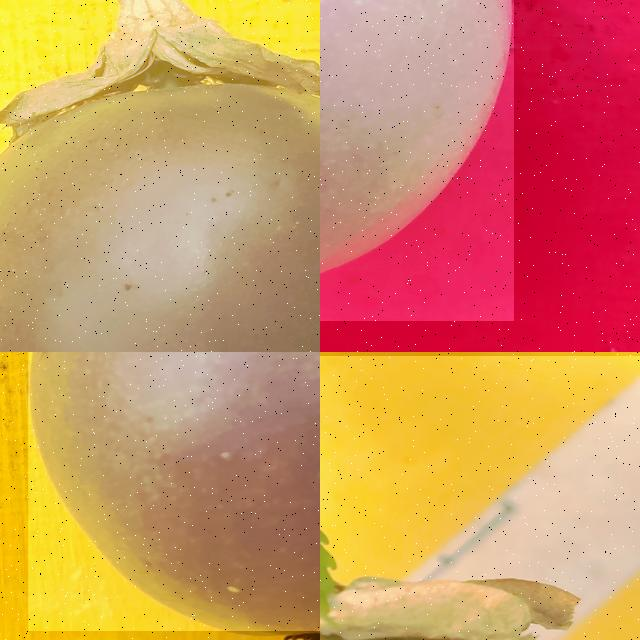Estado-3: (320, 0, 514, 279)
Estado-5: (29, 352, 320, 631)
Estado-6: (0, 0, 320, 352)
